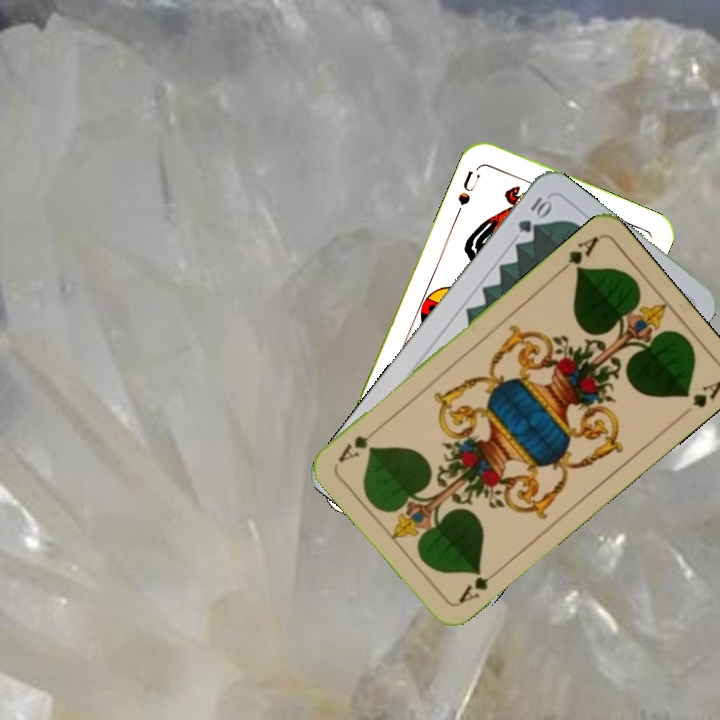G10: (513, 192, 555, 236)
GA: (554, 232, 601, 277), (453, 565, 502, 608)
SU: (452, 162, 483, 219)
